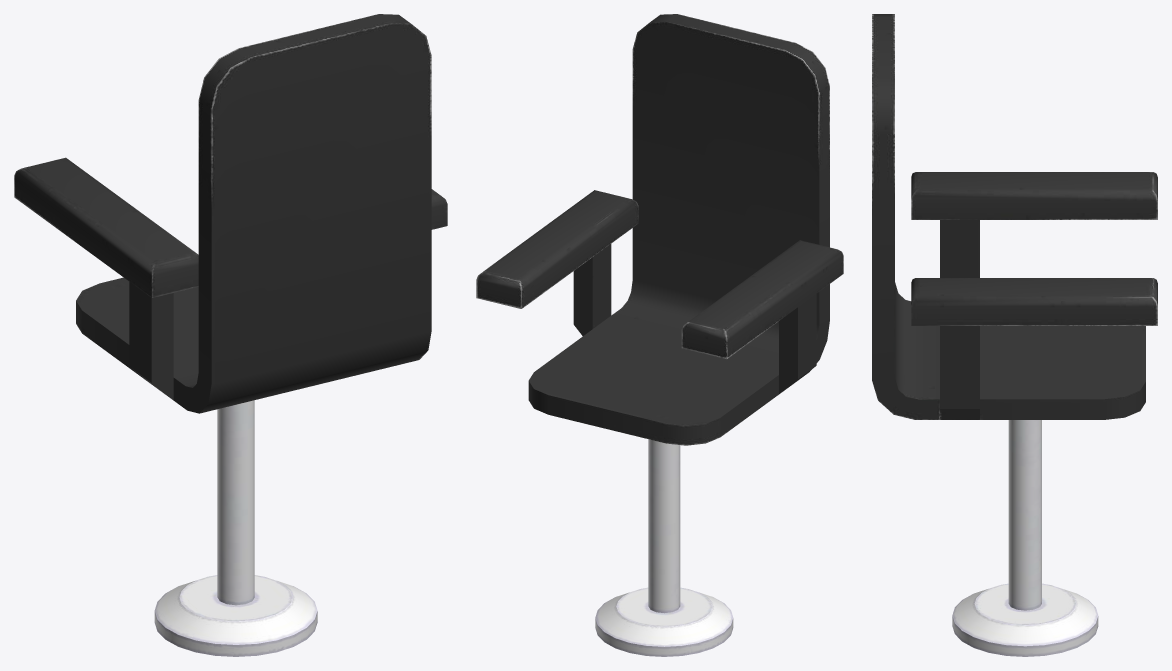
Rendered from Furn_Chair.glb.
3 renders of one model, left to right at view 1: azimuth 30°, elevation 25°; view 2: azimuth 150°, elevation 25°; view 3: azimuth 270°, elevation 25°, orthographic. The views are drawn at different scales.
Visible parts, largest first — view 1: Furn_Chair; view 2: Furn_Chair; view 3: Furn_Chair.
Part boxes in pixels (x1,y1,x2,y2): Furn_Chair: (14,14,447,656); Furn_Chair: (476,14,843,656); Furn_Chair: (872,14,1157,656).
Bounding box in the file's own units: 0.6411 × 1.34 × 0.5988.
1 material, 1 textured.
